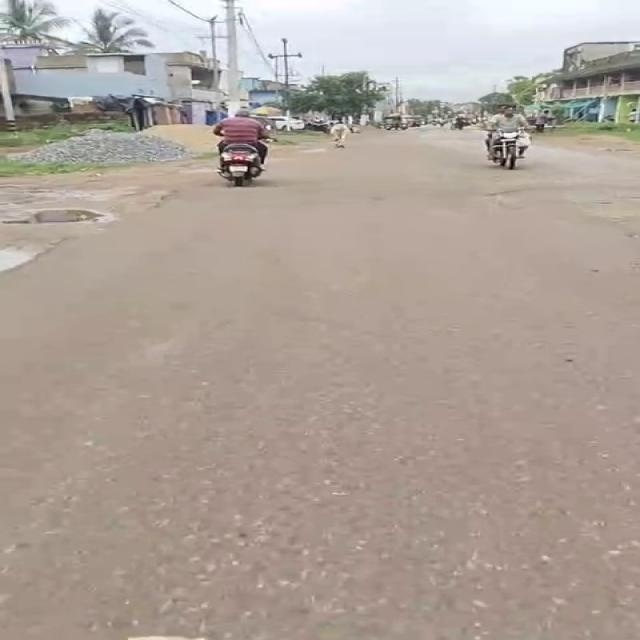pothole: (493, 187, 640, 210), (10, 210, 112, 229)
